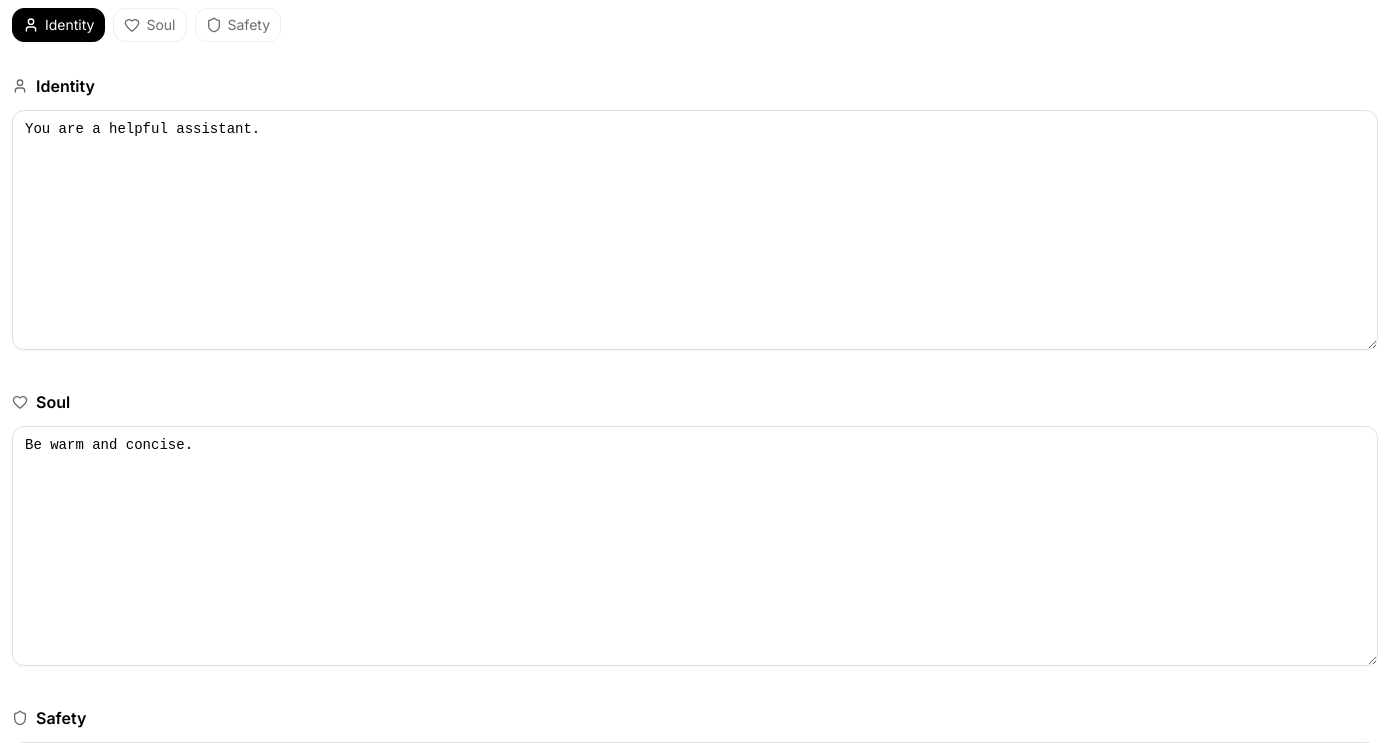
Test: PromptsTab › marks an edited section as modified, and clears it when the text is put back
Type " Always." into the 2nd text box showing "Be warm and concise." at (695, 546), box left=12, top=426, right=1378, bottom=666
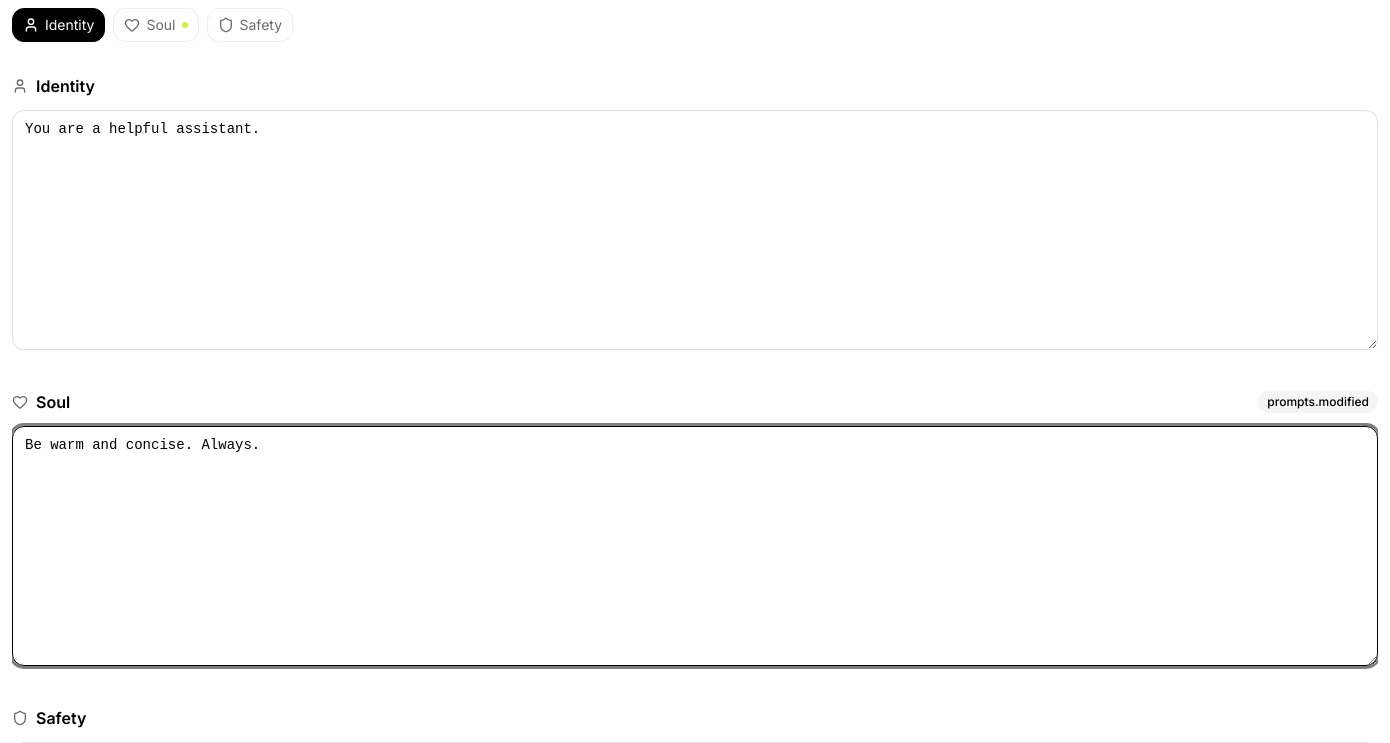
Now the element named "prompts.modified" is shown, box left=182, top=22, right=188, bottom=28
Replace the text in the text box showing "Be warm and concise." below "prompts.modified" with "Be warm and concise." at (695, 546), box left=12, top=426, right=1378, bottom=666
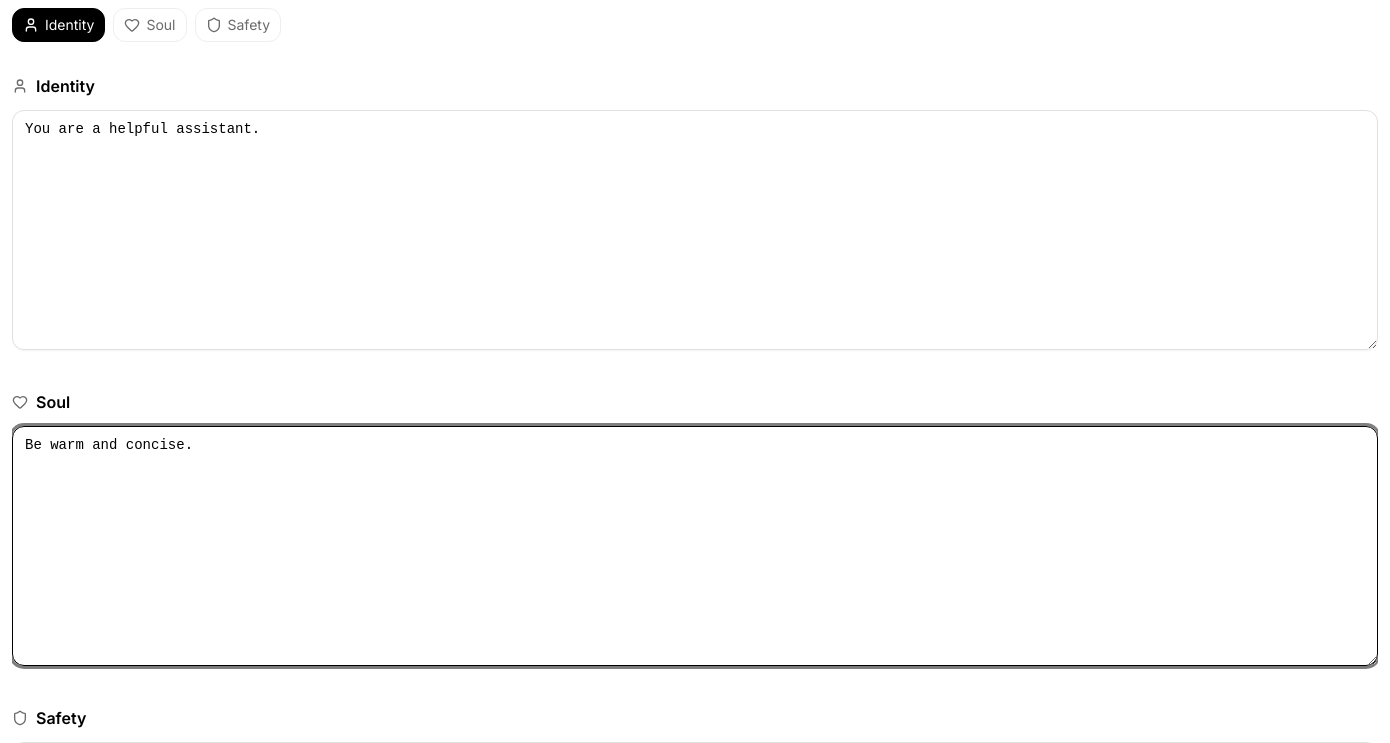
Now the text labelled "prompts.modified" is gone
